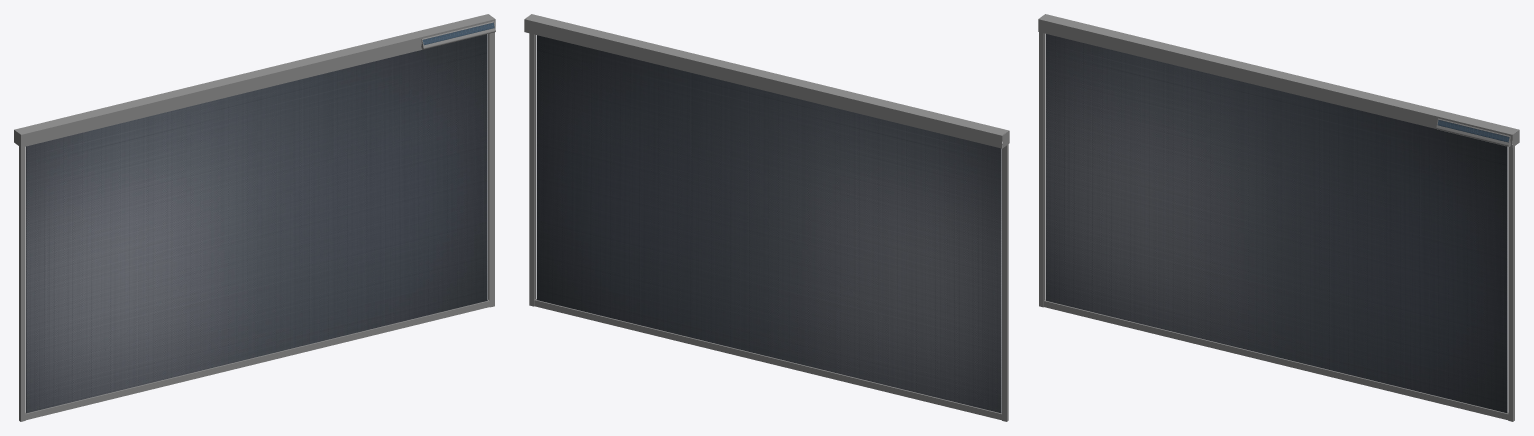
3 renders of one model, left to right at view 1: azimuth 30°, elevation 25°; view 2: azimuth 150°, elevation 25°; view 3: azimuth 330°, elevation 25°, orthographic.
Visible parts, largest first — view 1: Plane001, Rectangle004, Line007, Line006, Line005, Shape035, placa solar002; view 2: Plane001, Rectangle004, Line007, Line006, Line005; view 3: Plane001, Rectangle004, Line007, Line005, Line006, Shape035, placa solar002.
Part boxes in pixels (box(x1,y1,x2,y2)): Plane001: box(26, 34, 487, 413); Rectangle004: box(14, 14, 495, 147); Line007: box(26, 301, 488, 419); Line006: box(19, 146, 25, 421); Line005: box(488, 32, 494, 307); Shape035: box(422, 21, 495, 49); placa solar002: box(423, 22, 494, 45); Plane001: box(536, 35, 1001, 413); Rectangle004: box(524, 14, 1008, 148); Line007: box(535, 300, 1000, 419); Line006: box(1002, 144, 1008, 421); Line005: box(529, 33, 535, 306); Plane001: box(1046, 34, 1507, 413); Rectangle004: box(1038, 14, 1518, 147); Line007: box(1045, 301, 1507, 419); Line005: box(1508, 145, 1514, 421); Line006: box(1039, 32, 1045, 307); Shape035: box(1437, 119, 1509, 146); placa solar002: box(1437, 120, 1509, 142).
Size of the model in its own units: 3887 by 2251 by 131.
Materials: 5 (2 with a texture image).
